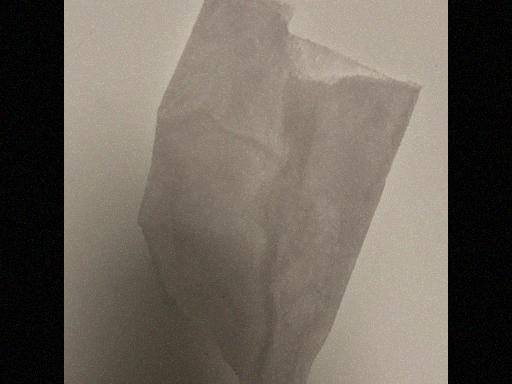trash: (102, 4, 440, 382)
